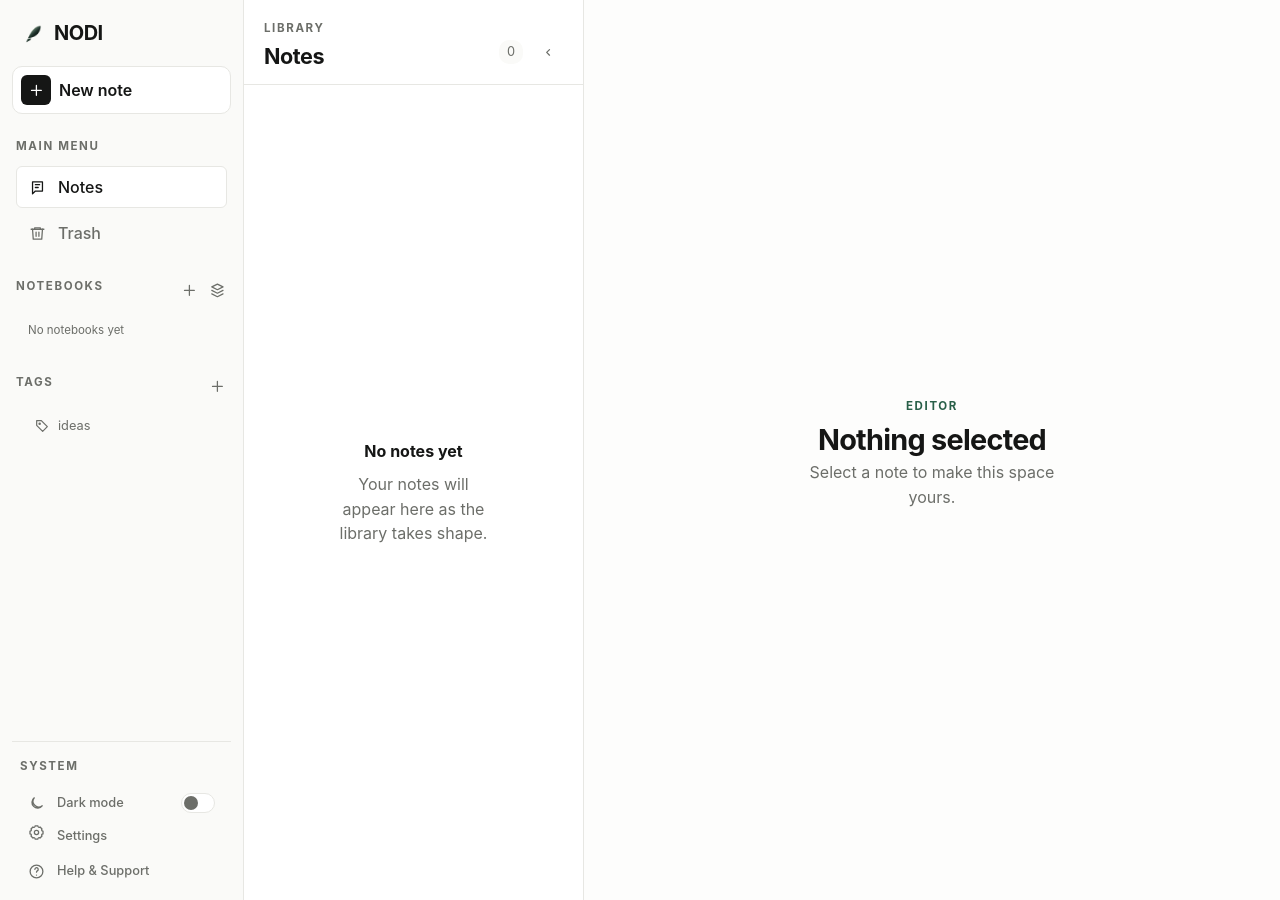
NODI app › filters notes by a selected tag
The width and height of the screenshot is (1280, 900).
What coordinates should you click on to do the following:
click the button with aria-label "# ideas"
I would click on:
 (103, 426)
Its box is [28,413,177,439].
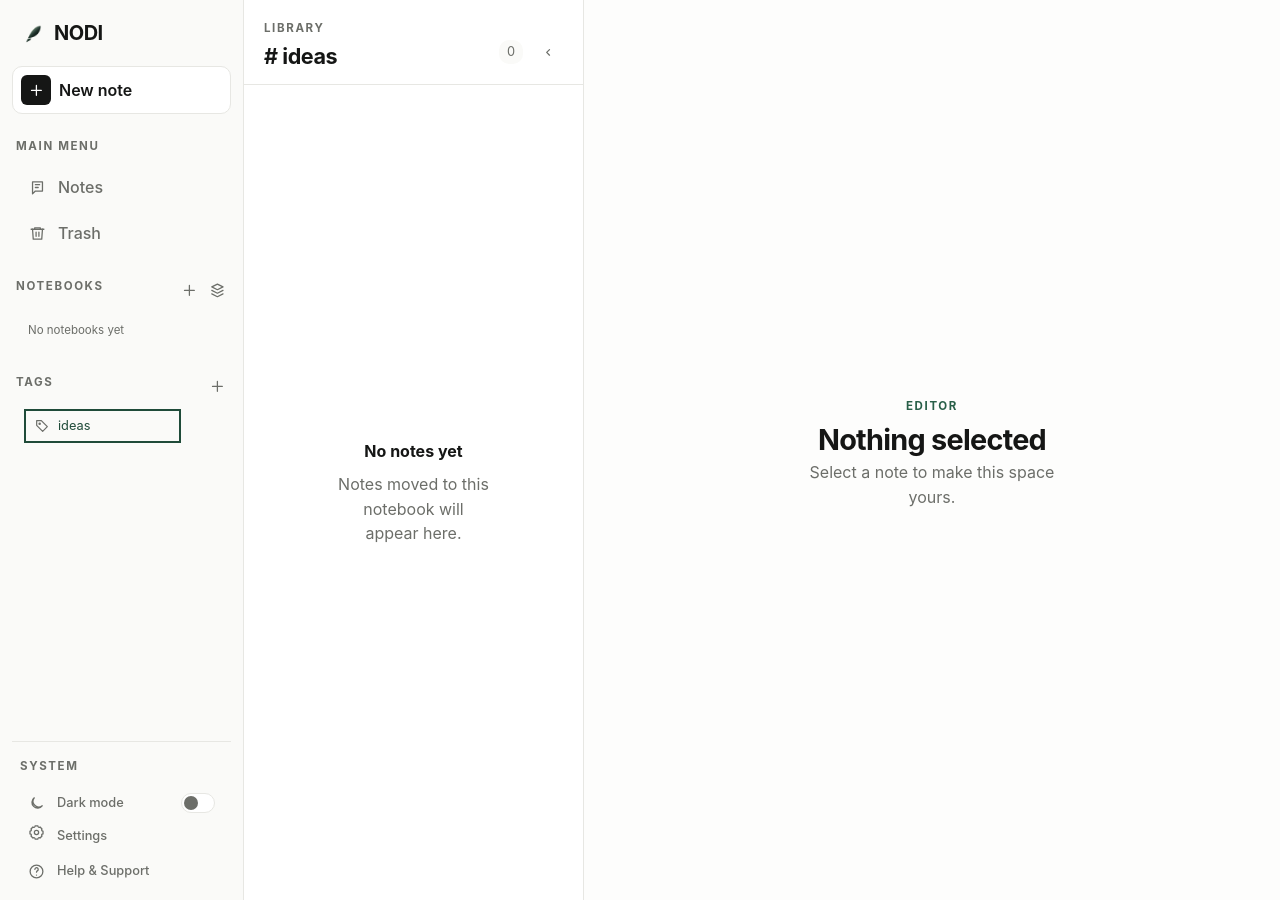
Expected: the element "# ideas" is shown, [244,0,584,899]
